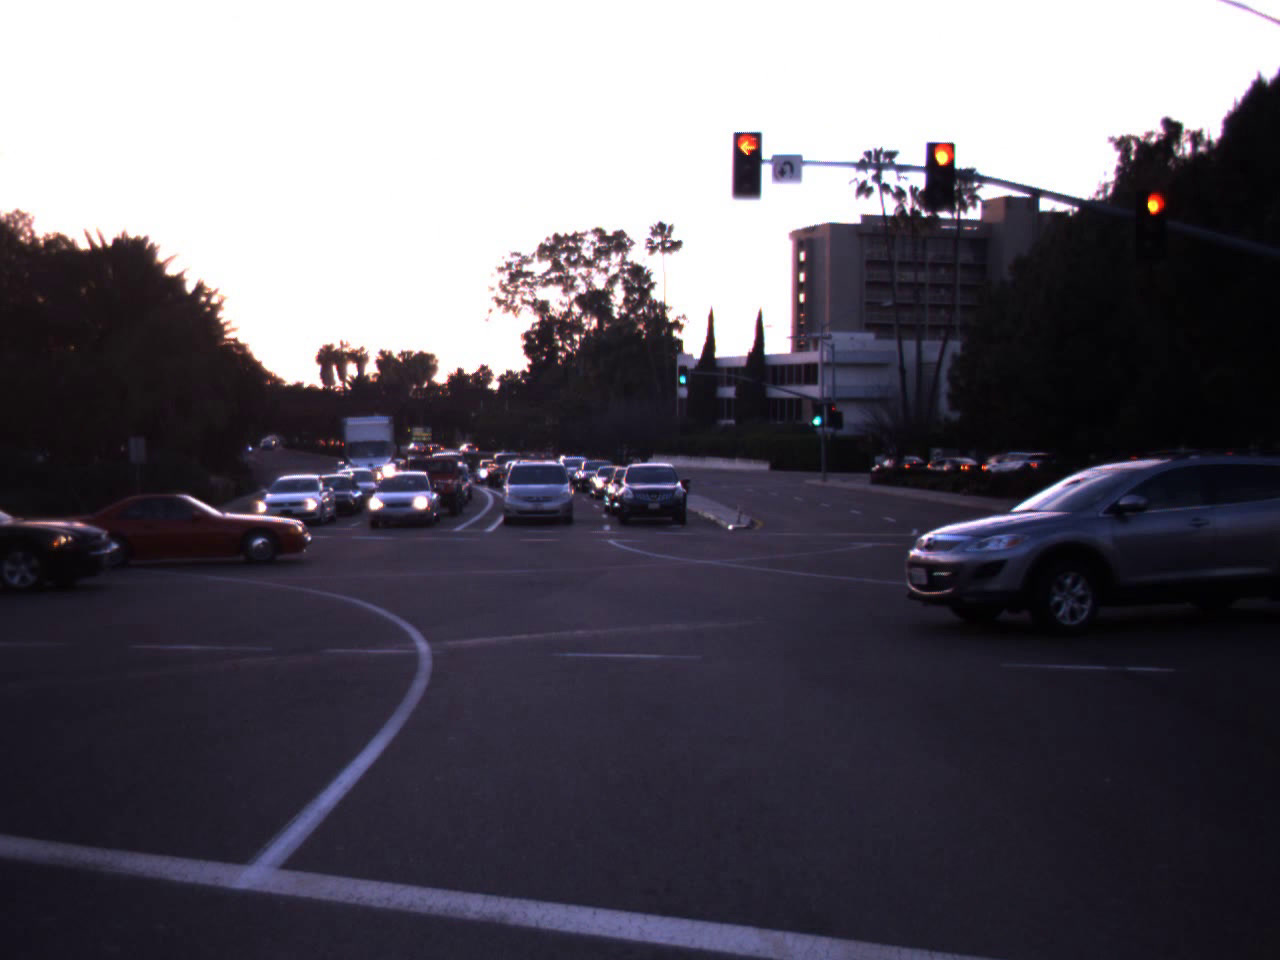go: (803, 384, 830, 429), (675, 359, 690, 384)
stop: (717, 127, 777, 212), (1131, 181, 1179, 280), (919, 136, 967, 221)
